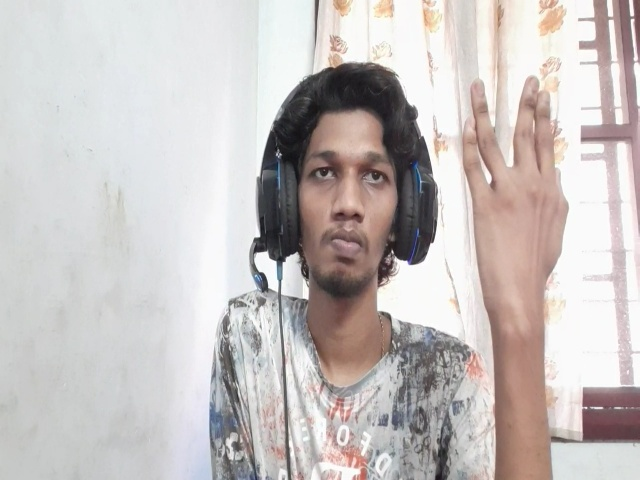LiveLong: (461, 76, 570, 314)
